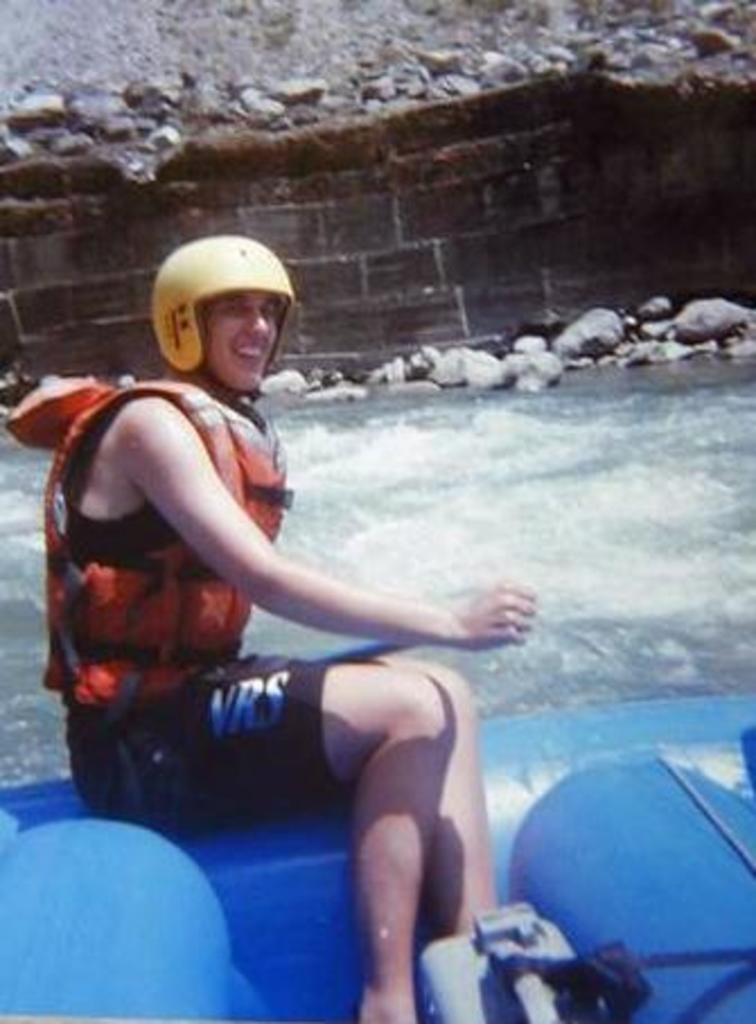helmet: (150, 234, 296, 388)
